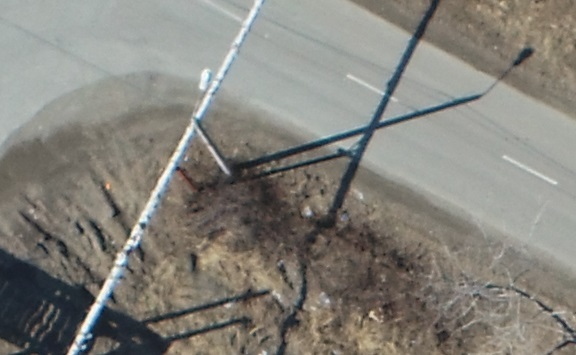opora: (188, 64, 279, 175)
